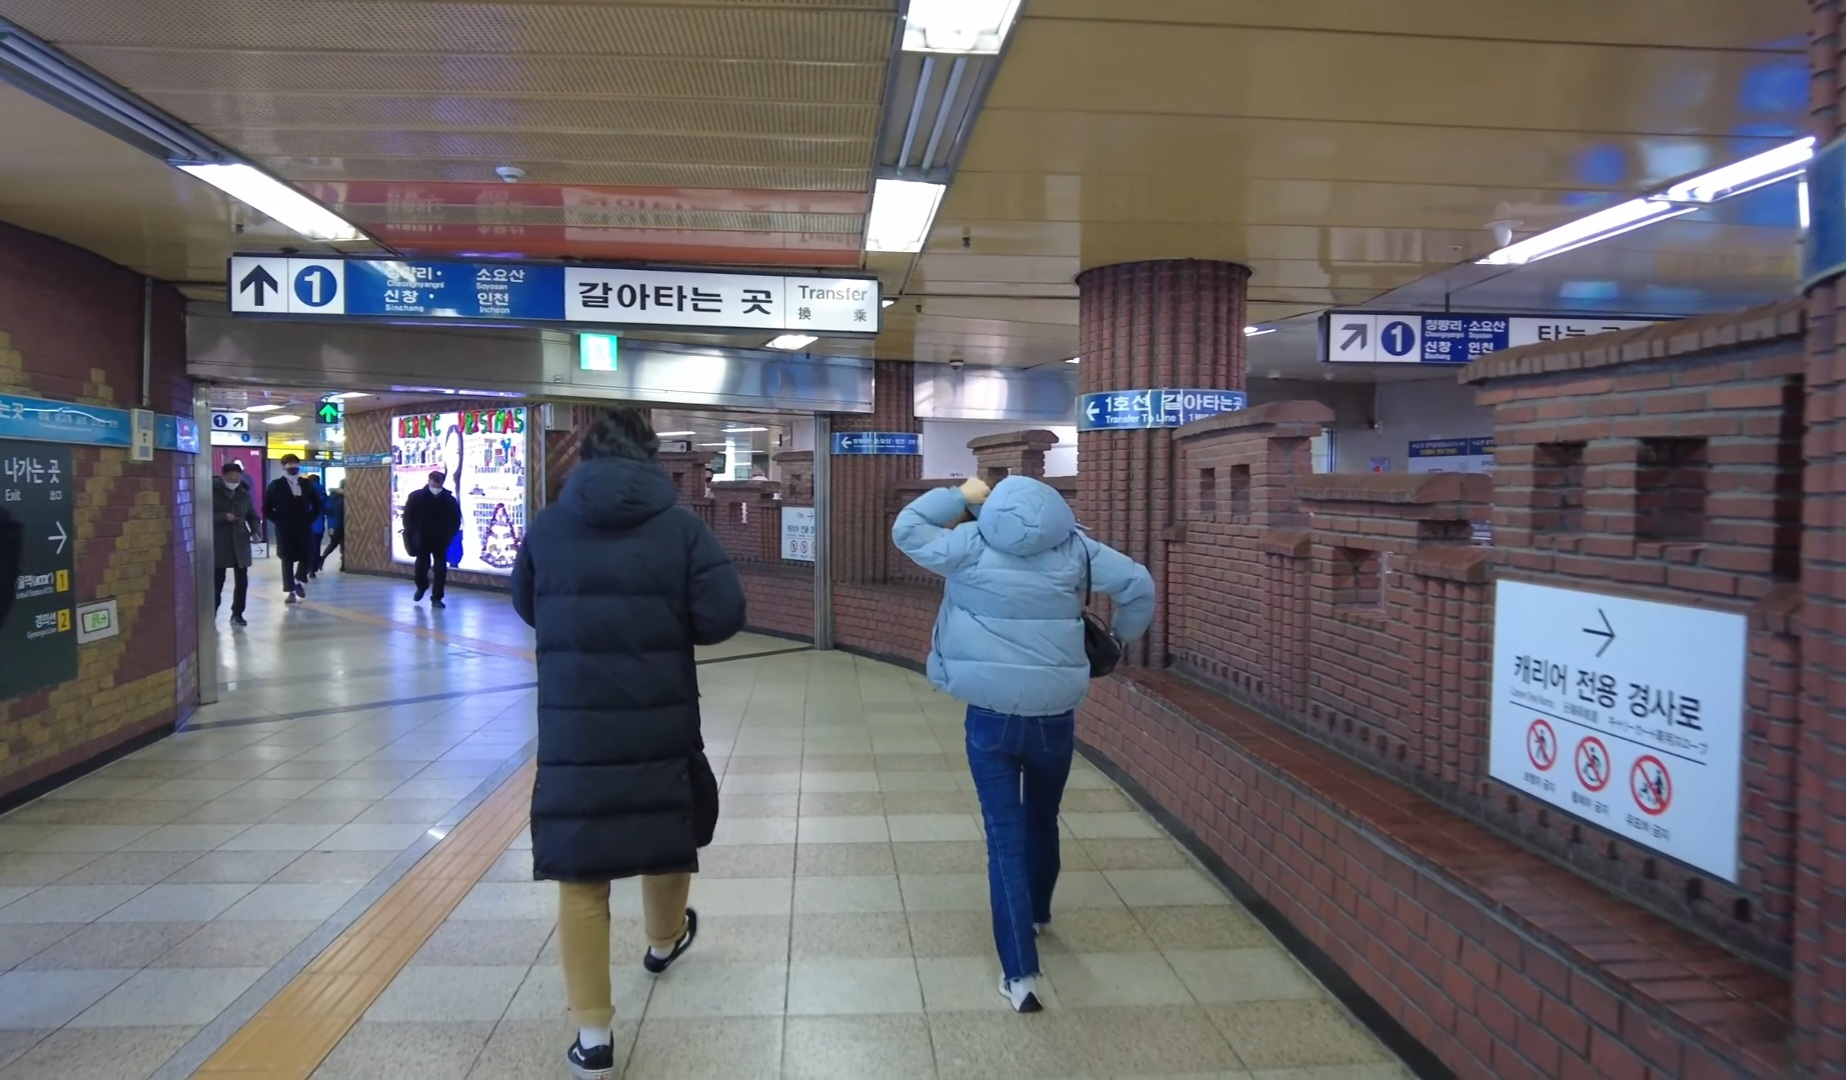signBoard: (219, 249, 887, 348)
